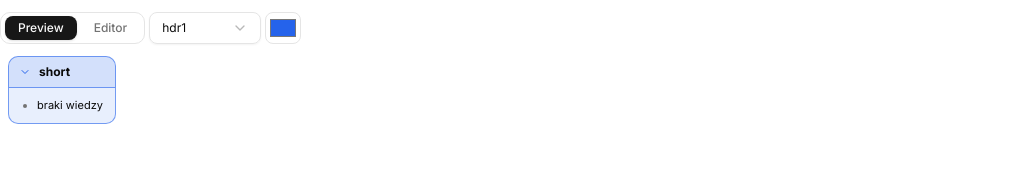
Scenario: TextEditorWithToolbar — Preview format selector › lets the user override the auto-detected format manually
The image size is (1024, 191).
Step 1. Click the dropdown named "Preview format" → (205, 28), box left=149, top=12, right=261, bottom=44
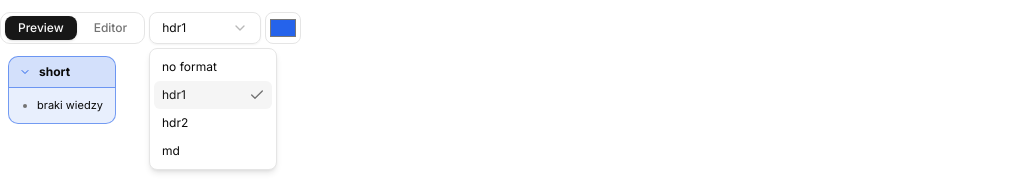
Step 2. Click the option "no format" → (189, 66), box left=162, top=59, right=217, bottom=74
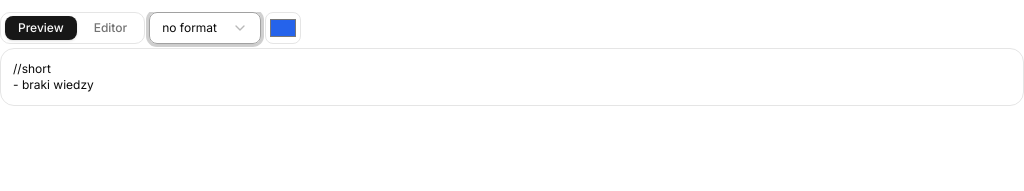
Expected: the dropdown named "Preview format" reads "no format", left=149, top=12, right=261, bottom=44
Expected: the text "//short" is shown, left=13, top=61, right=94, bottom=92
